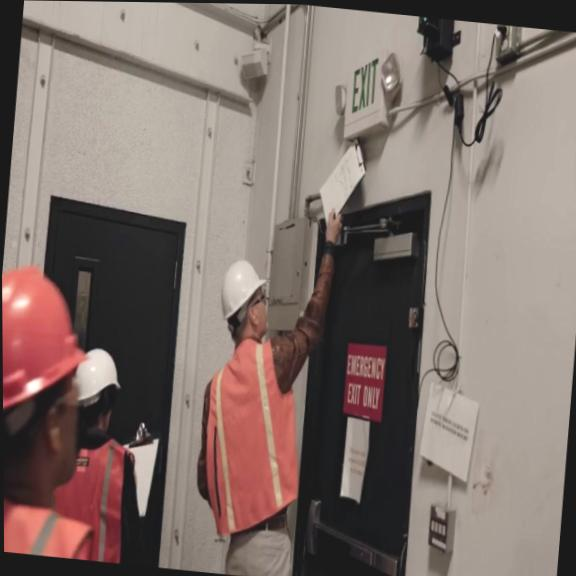safety_vest: (194, 336, 312, 546), (47, 433, 137, 564), (4, 497, 98, 561)
